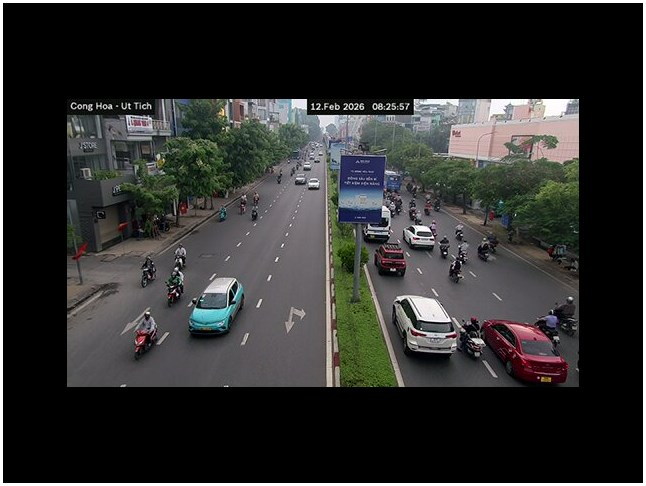car: (480, 318, 569, 384), (391, 294, 461, 355), (187, 275, 246, 336), (375, 244, 408, 276), (457, 319, 484, 358), (402, 224, 436, 251), (363, 223, 391, 243), (307, 177, 320, 189)
motorbike: (478, 240, 497, 262), (166, 284, 183, 305), (141, 265, 156, 288)
truck: (337, 153, 388, 226)
